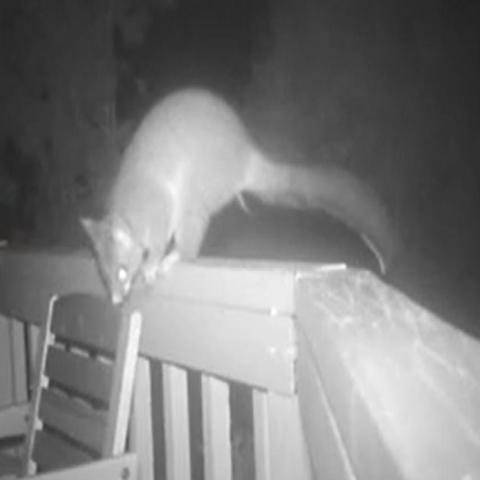small_animal: (82, 83, 401, 306)
